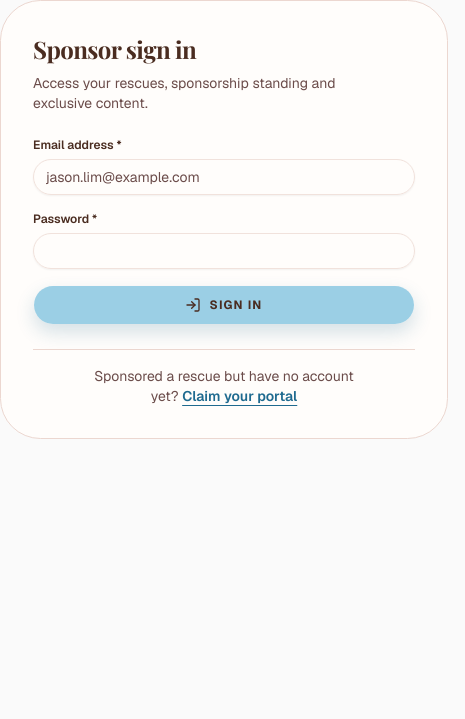
Test: sponsor portal offers › offers the portal claim to people who sponsored a rescue, not to every donor
This screenshot has width=465, height=719.
Expected: the text "Sponsored a rescue but have no account yet?" is shown, [94,367,354,405]
Click the button "Claim your portal" at (240,396), box [182,386,297,406]
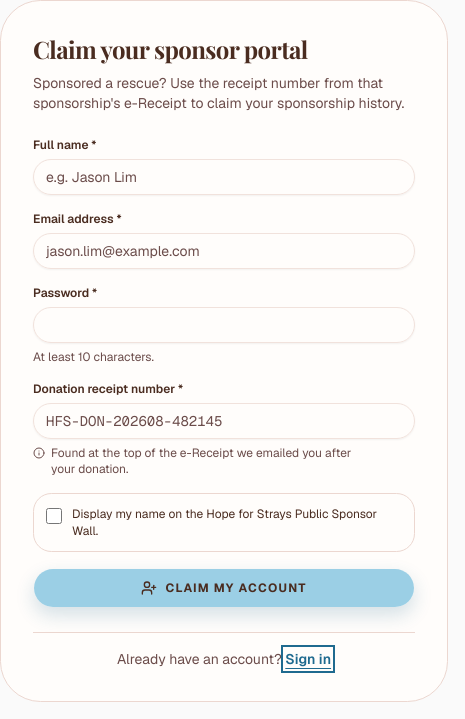
Expected: the text "receipt number from that sponsorship's e-Receipt" is shown, [33,74,404,112]
